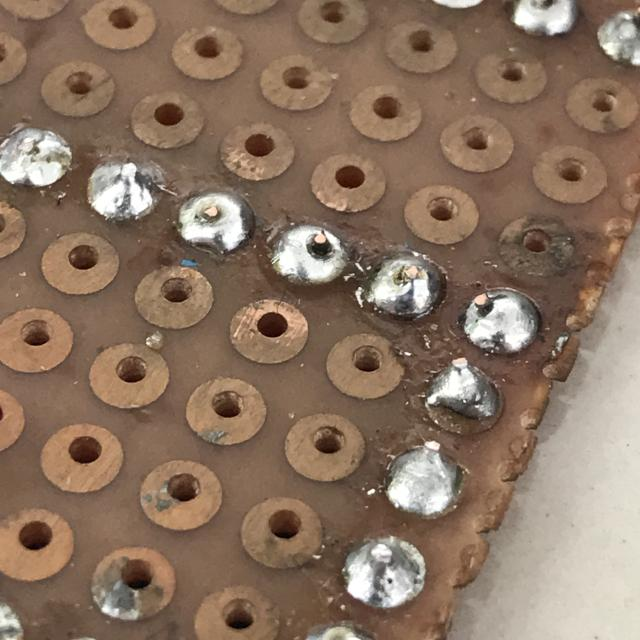good: (376, 433, 478, 530), (331, 527, 439, 618), (78, 146, 176, 237), (0, 113, 82, 200)
hole: (358, 245, 457, 331), (262, 212, 358, 298), (458, 280, 553, 362), (170, 185, 262, 261)
pad_less: (417, 356, 511, 439)
